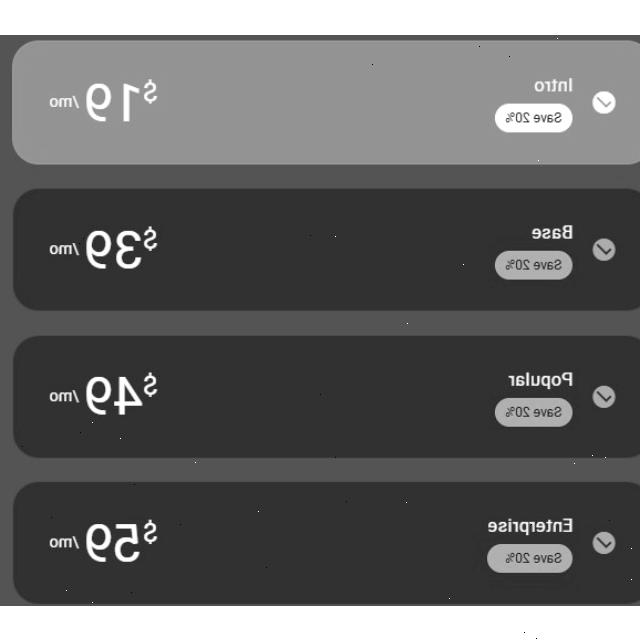QLabel: (85, 514, 159, 566), (86, 370, 160, 418), (85, 224, 158, 270), (85, 78, 158, 122), (487, 516, 573, 532), (506, 370, 574, 388), (530, 222, 574, 242), (506, 110, 564, 124), (504, 258, 564, 270), (503, 551, 562, 563), (532, 76, 574, 92), (506, 406, 564, 416), (48, 534, 80, 548), (49, 94, 80, 108), (48, 242, 80, 254), (49, 389, 80, 401)
VCard: (12, 37, 640, 163), (12, 332, 640, 456), (12, 480, 640, 602), (14, 188, 640, 308)
VChip: (488, 541, 572, 573), (493, 101, 573, 133), (494, 248, 572, 280), (495, 397, 573, 428)
VIcon: (592, 88, 616, 114), (592, 530, 616, 554), (592, 384, 616, 408), (592, 237, 616, 260)
